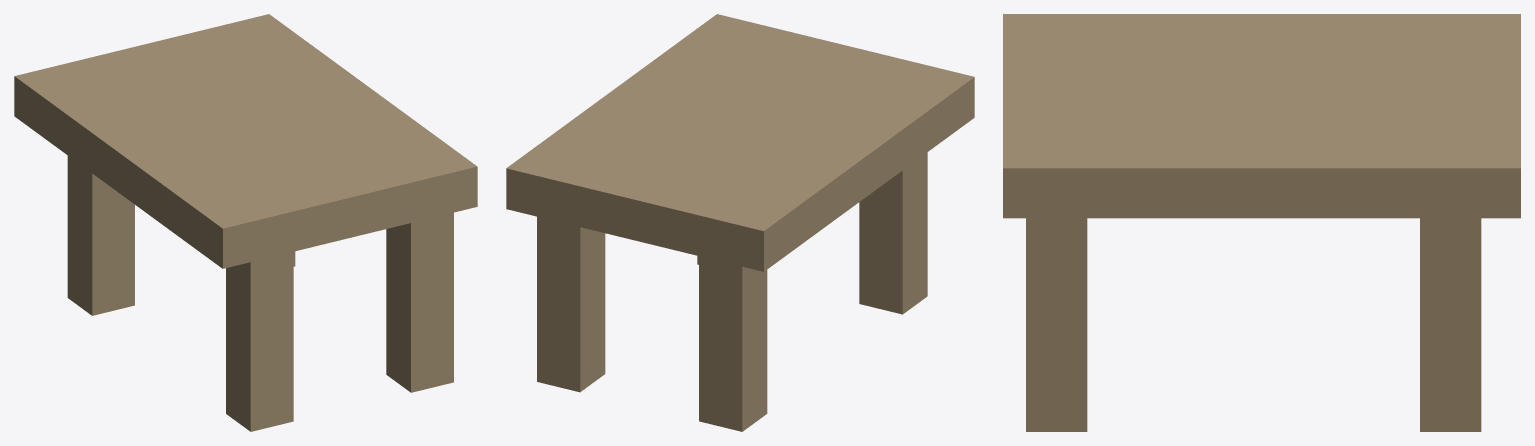
File: table 1.fbx
3 views of the same model, side by side, from view 1: azimuth 30°, elevation 25°; view 2: azimuth 150°, elevation 25°; view 3: azimuth 270°, elevation 25° (orthographic). The views are drawn at different scales.
Visible parts, largest first — view 1: pCube119, pCube118, pCube117, pCube115; view 2: pCube119, pCube115, pCube116, pCube118; view 3: pCube119, pCube117, pCube116.
Part boxes in pixels (x1,y1,x2,y2): pCube119: (14,14,477,268); pCube118: (226,251,293,431); pCube117: (386,212,453,392); pCube115: (67,156,134,315); pCube119: (506,14,974,271); pCube115: (699,256,767,431); pCube116: (537,216,605,392); pCube118: (859,152,927,314); pCube119: (1003,14,1520,218); pCube117: (1026,218,1087,431); pCube116: (1420,218,1481,431).
Bounding box in the file's own units: 2.13 × 1.75 × 3.02.
